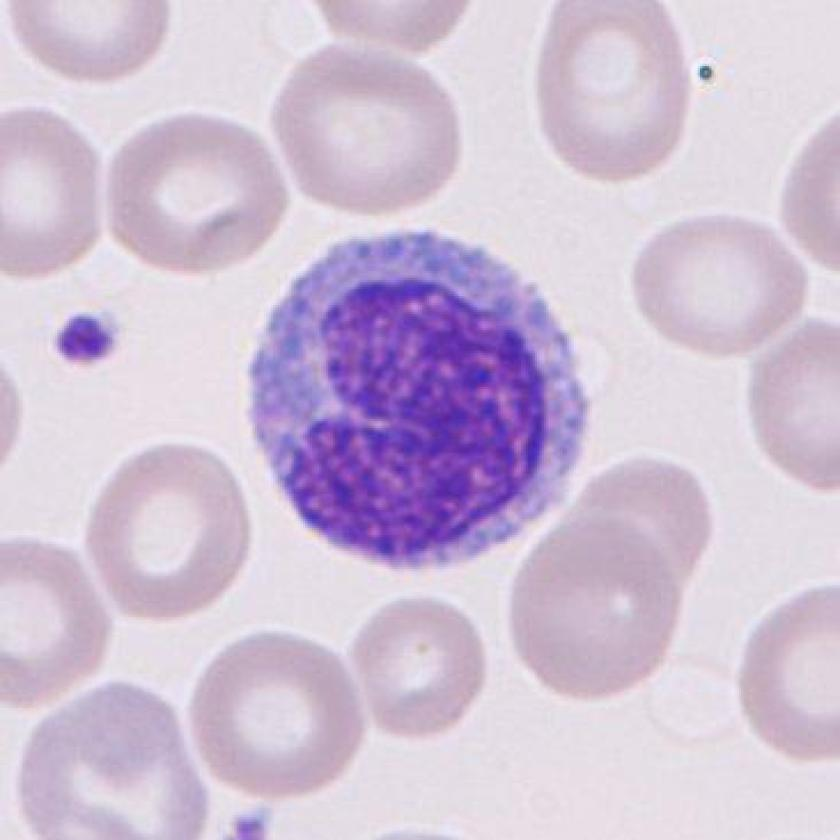monocyte: (231, 217, 609, 584)
